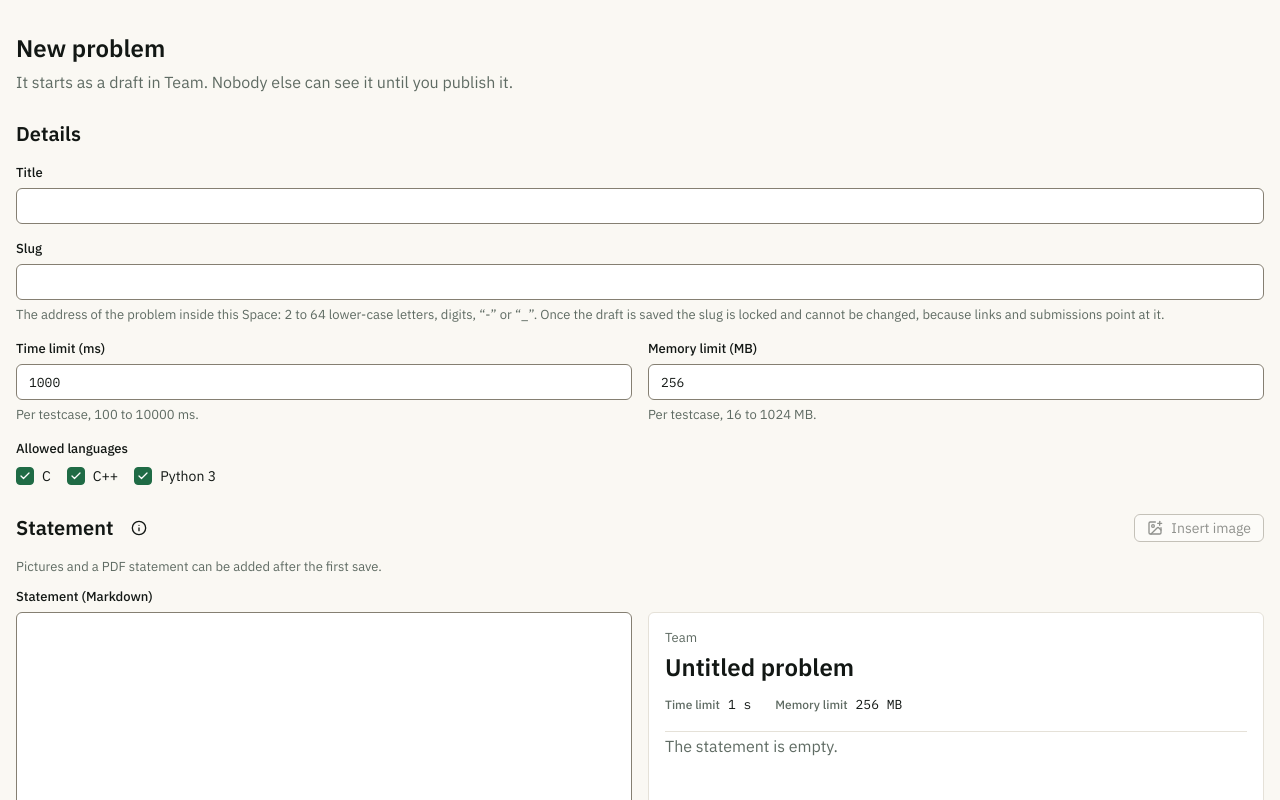
Test: the create page (GRD-72) › keeps Save off until there is a title and a valid slug
Type "Sum" into the field labelled "Title" at (640,206), box [16,188,1264,224]
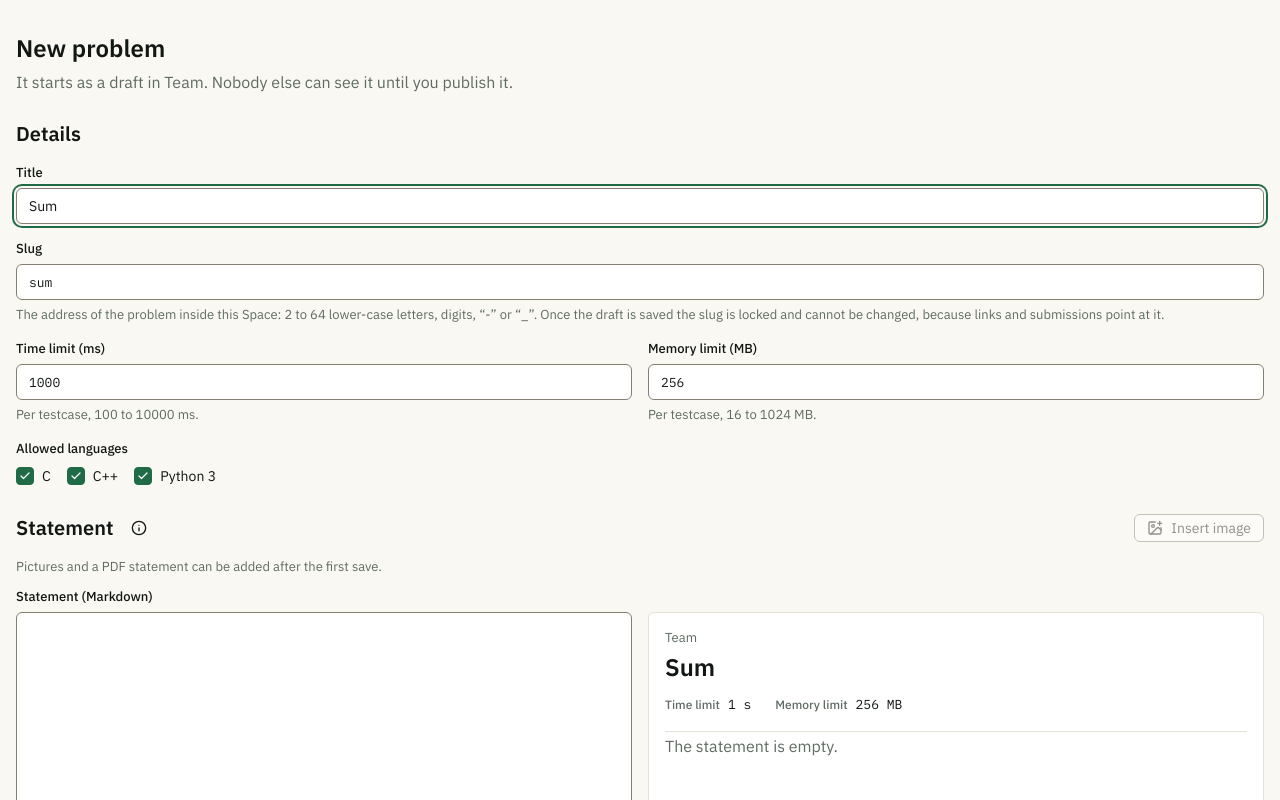
Clear the field labelled "Slug" at (640,282), box [16,264,1264,300]
(page scrolled)
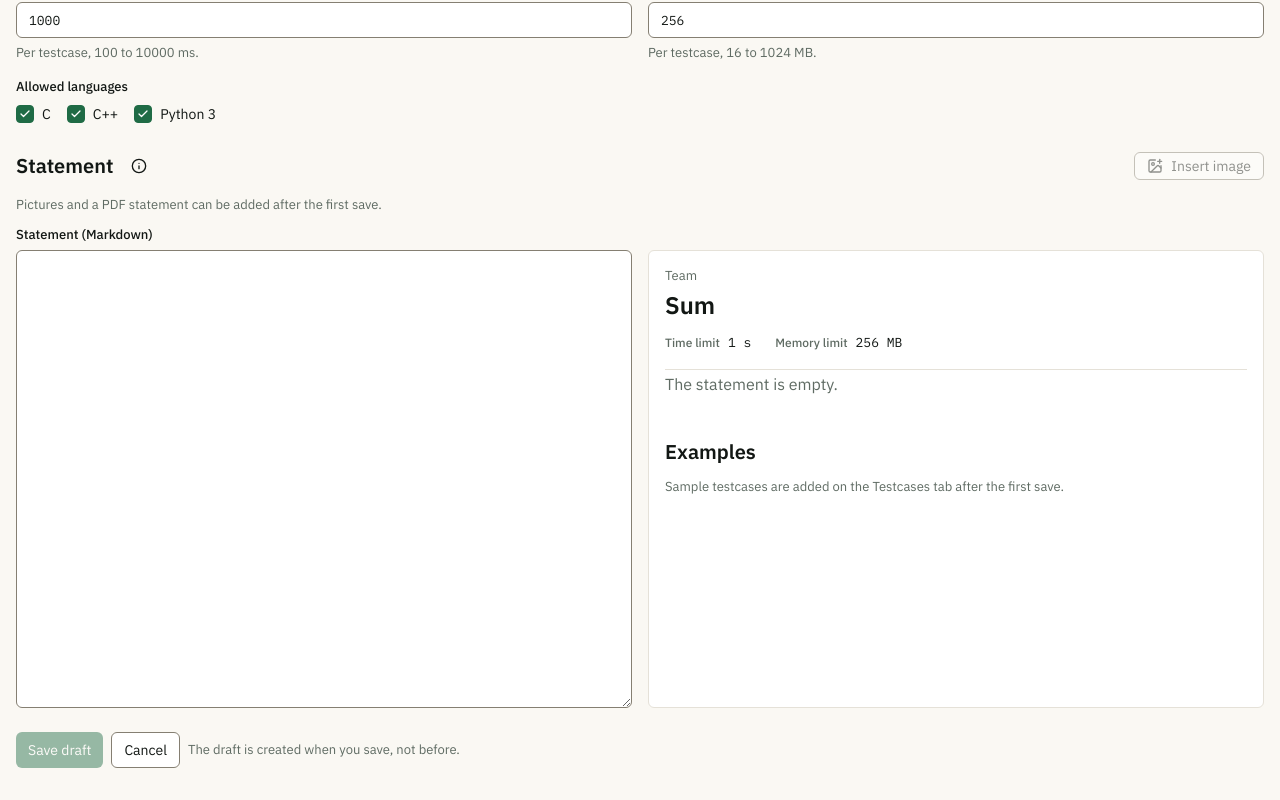
Check: the button "Save draft" is disabled, box [16,732,103,768]
